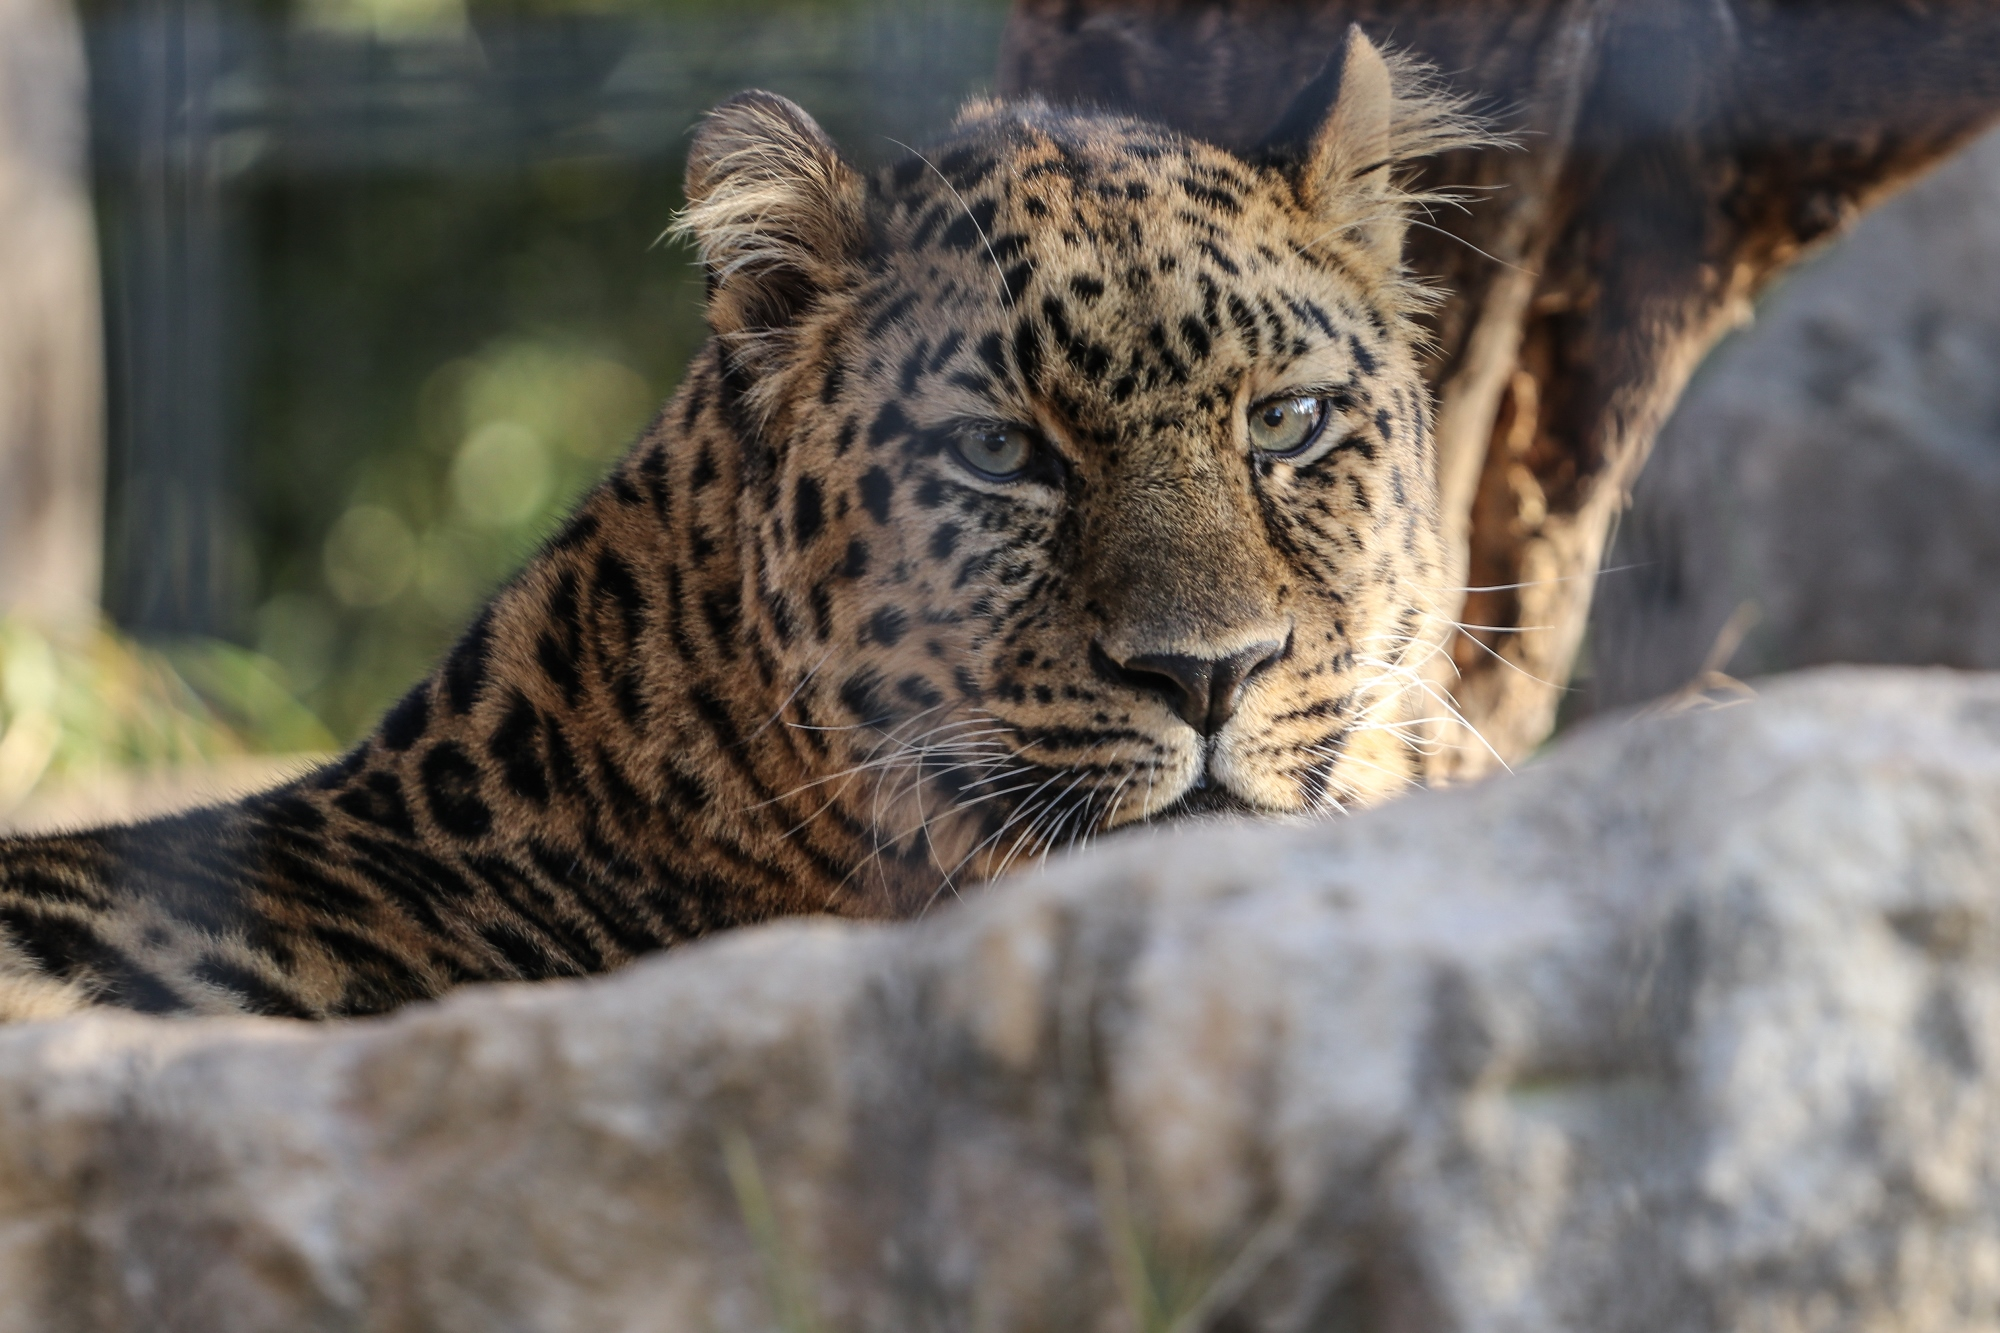amur_leopard: (504, 10, 1561, 867)
